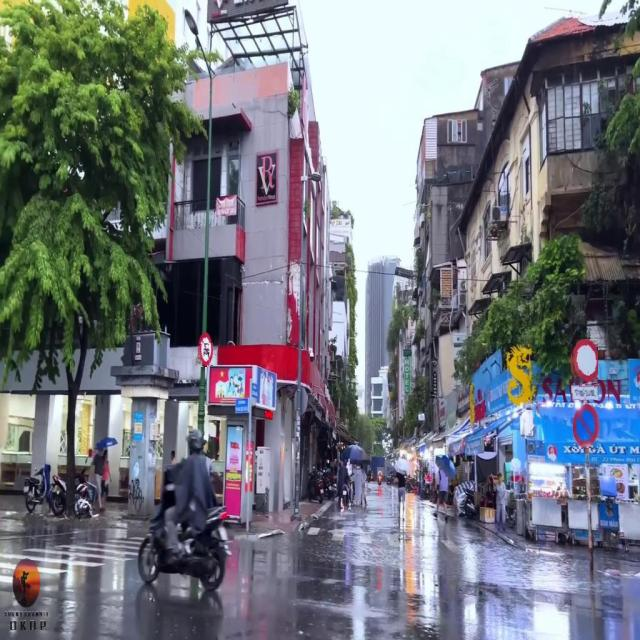cam_do_xe: (573, 404, 600, 449)
cam_o_to: (198, 332, 213, 367)
khac: (570, 339, 598, 385), (572, 383, 600, 400)
